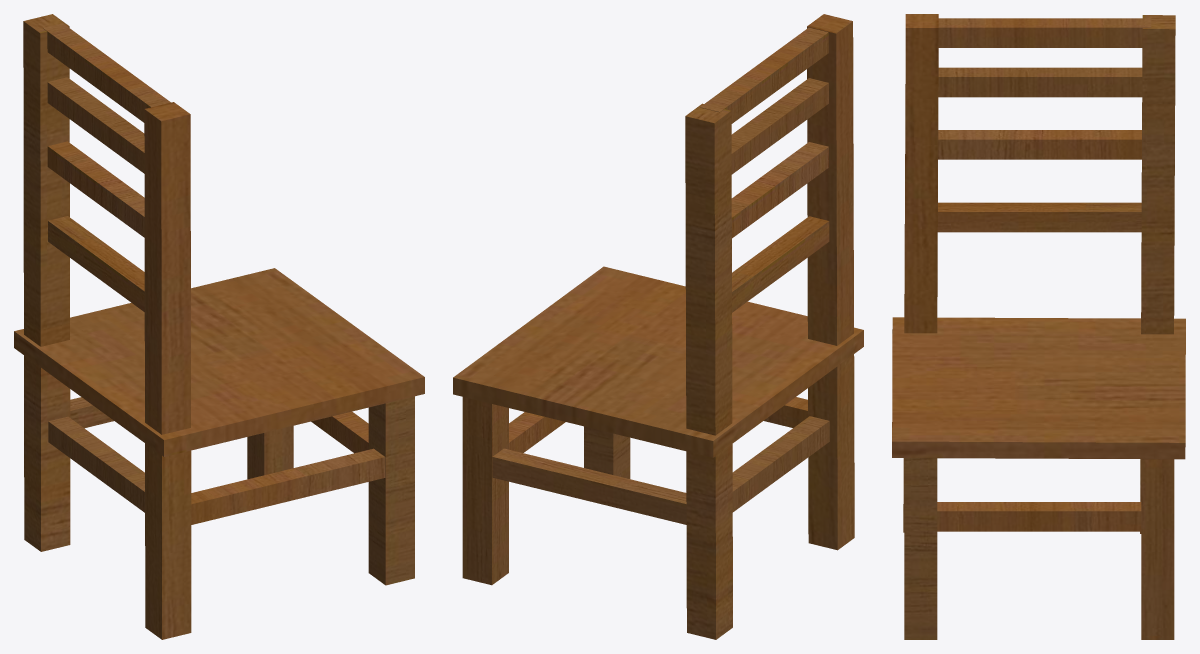
File: chair.obj
3 views of the same model, side by side, from view 1: azimuth 30°, elevation 25°; view 2: azimuth 150°, elevation 25°; view 3: azimuth 270°, elevation 25° (orthographic). The views are drawn at different scales.
Parts seen in each view (by area): view 1: Cube.010; view 2: Cube.010; view 3: Cube.010.
Part boxes in pixels (x1=…): Cube.010: x1=14, y1=14, x2=424, y2=639; Cube.010: x1=453, y1=14, x2=863, y2=639; Cube.010: x1=892, y1=14, x2=1185, y2=639.
Size of the model in its own units: 2.86 by 5.44 by 2.86.
1 material, 1 textured.
